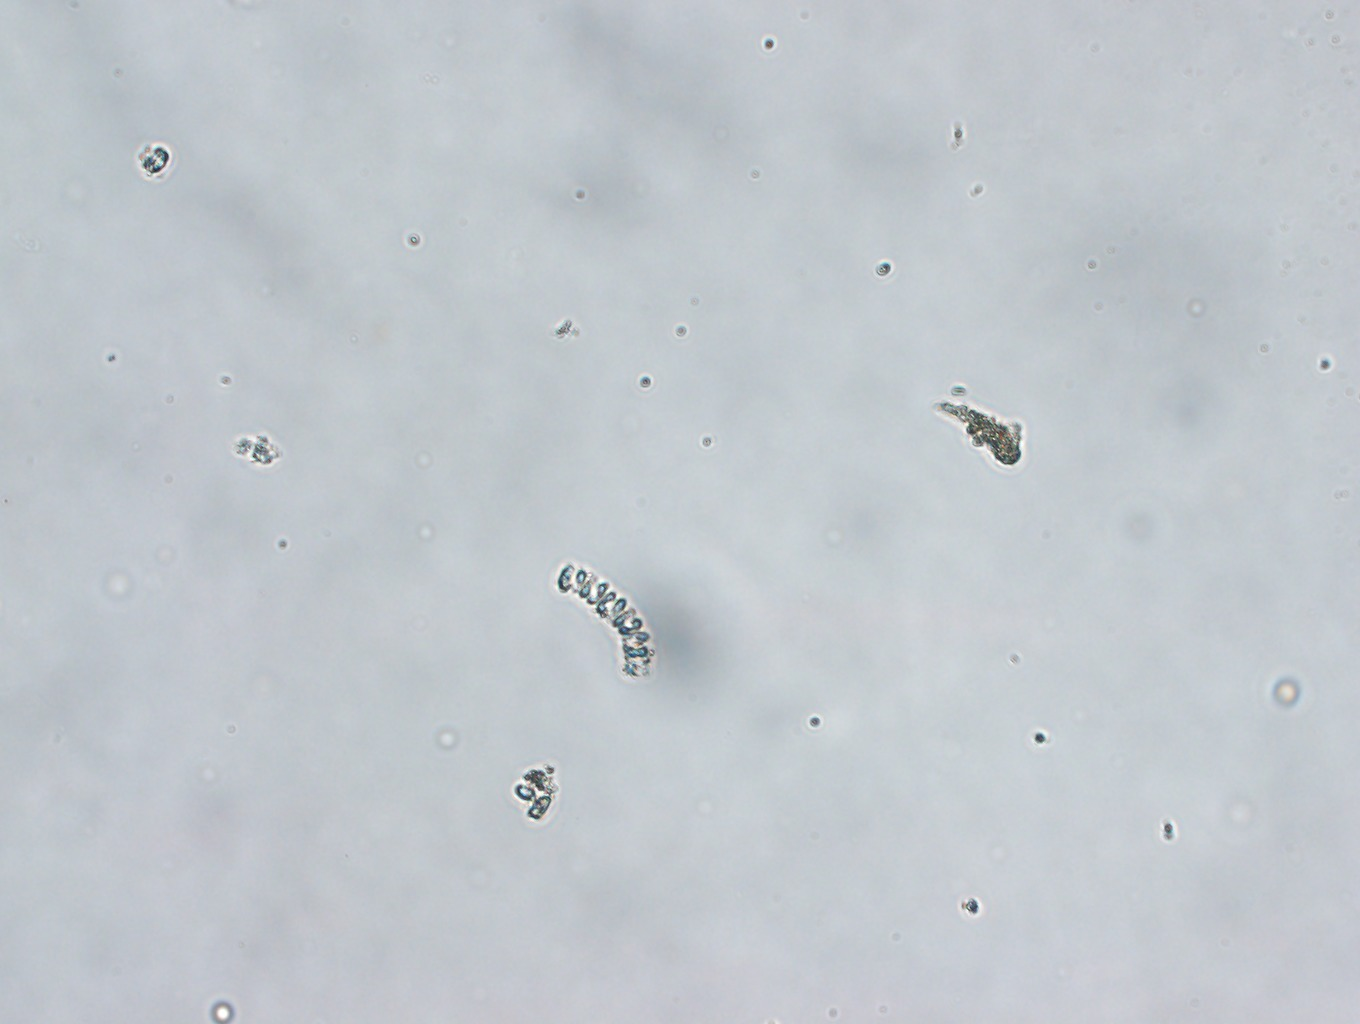skeletonema: (556, 563, 657, 683)
